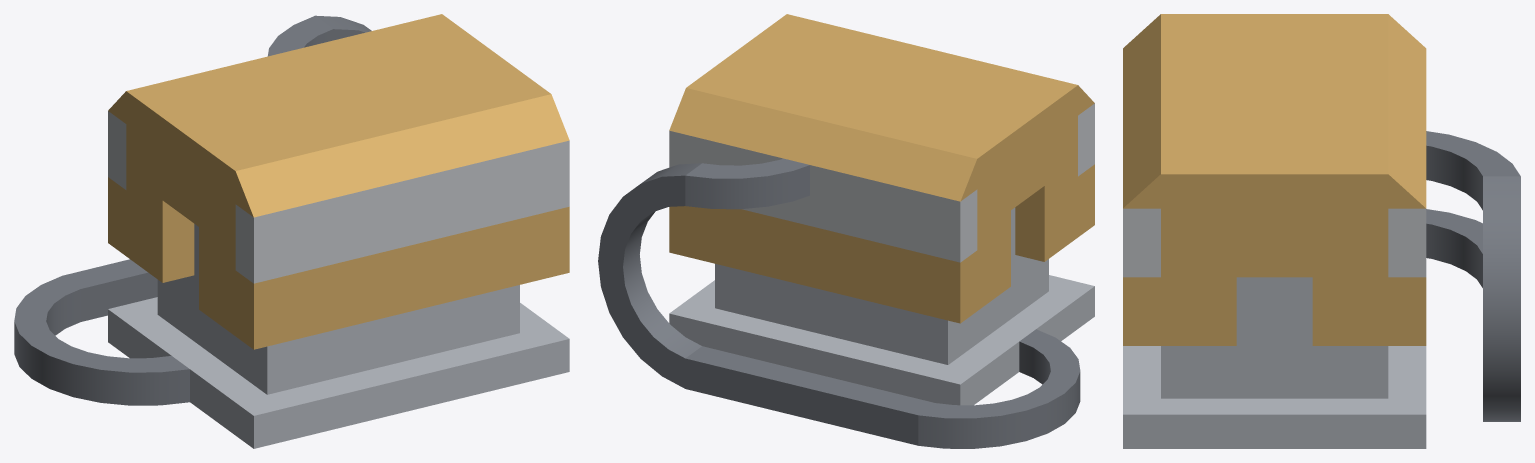
Rendered from machine_generator.glb.
The picture shows the model from 3 angles, left to right: view 1: azimuth 30°, elevation 25°; view 2: azimuth 150°, elevation 25°; view 3: azimuth 270°, elevation 25°; orthographic projection. The views are drawn at different scales.
Parts seen in each view (by area): view 1: machine_generator, cable; view 2: machine_generator, cable; view 3: machine_generator, cable.
Part boxes in pixels (<box>): machine_generator: <box>108,14,569,448</box>; cable: <box>14,15,371,405</box>; machine_generator: <box>669,14,1094,405</box>; cable: <box>598,158,1080,448</box>; machine_generator: <box>1123,14,1426,448</box>; cable: <box>1426,131,1520,421</box>.
Size of the model in its own units: 0.7 by 0.4 by 0.525.
